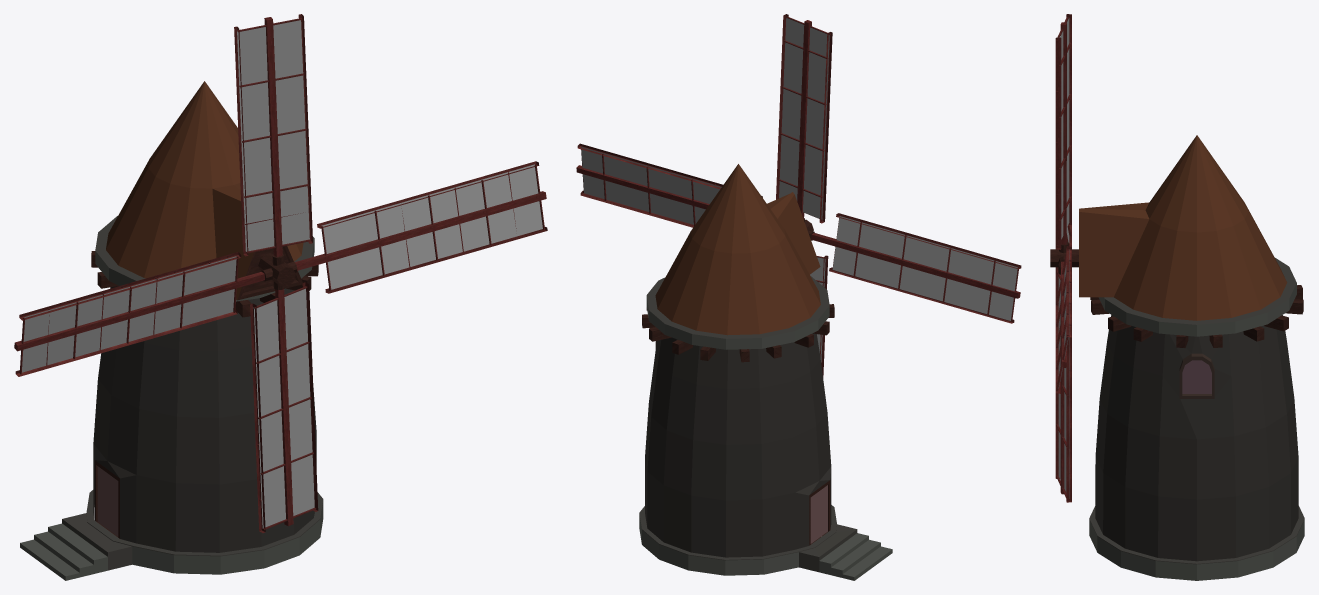
Rendered from windmill.zfix-v1.lod1.glb.
The picture shows the model from 3 angles, left to right: view 1: azimuth 30°, elevation 25°; view 2: azimuth 150°, elevation 25°; view 3: azimuth 270°, elevation 25°; orthographic projection. The views are drawn at different scales.
Visible parts, largest first — view 1: Object_4, Object_35, Object_20; view 2: Object_4, Object_35, Object_20; view 3: Object_4, Object_35, Object_20.
Boxes of the visible parts, x1=… form: Object_4: x1=20, y1=20, x2=542, y2=580; Object_35: x1=14, y1=14, x2=547, y2=532; Object_20: x1=91, y1=246, x2=318, y2=538; Object_4: x1=581, y1=18, x2=1017, y2=580; Object_35: x1=576, y1=14, x2=1021, y2=377; Object_20: x1=642, y1=218, x2=834, y2=545; Object_4: x1=1058, y1=18, x2=1304, y2=580; Object_35: x1=1055, y1=14, x2=1071, y2=502; Object_20: x1=1050, y1=242, x2=1303, y2=347.
Size of the model in its own units: 11.81 by 12 by 5.46.
Materials: 3 (2 with a texture image).
